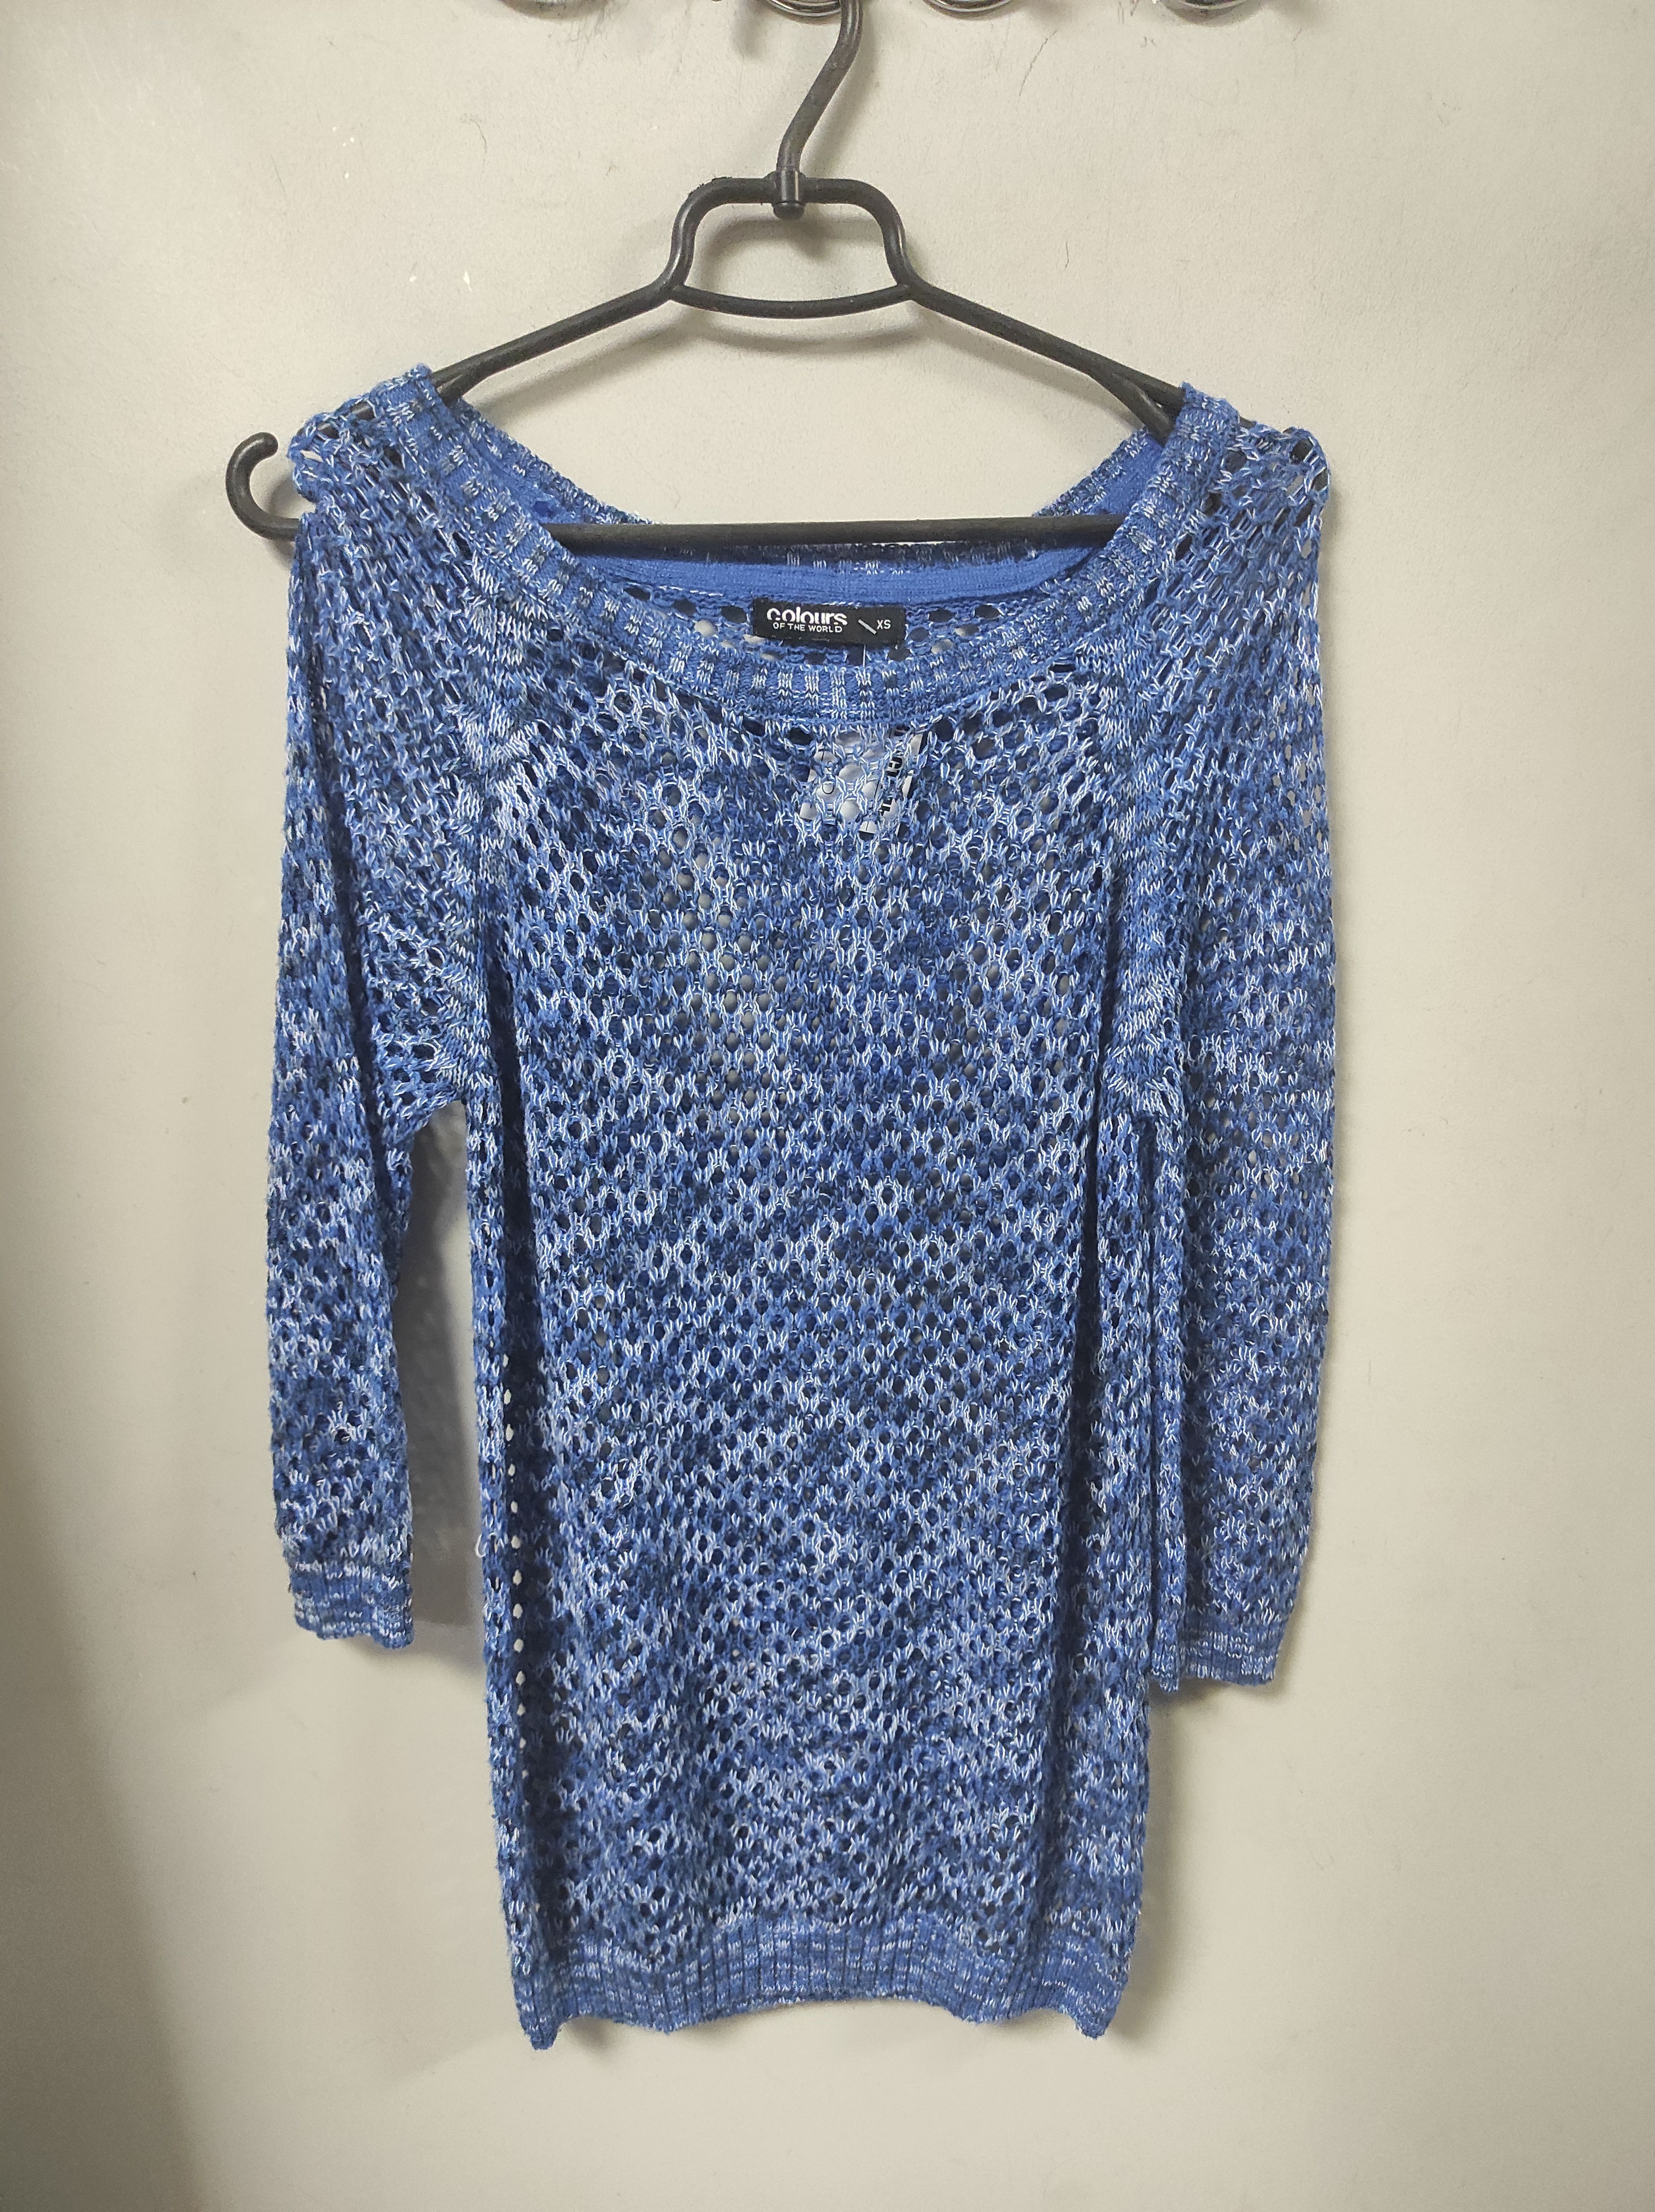clothes: (233, 348, 1325, 2071)
